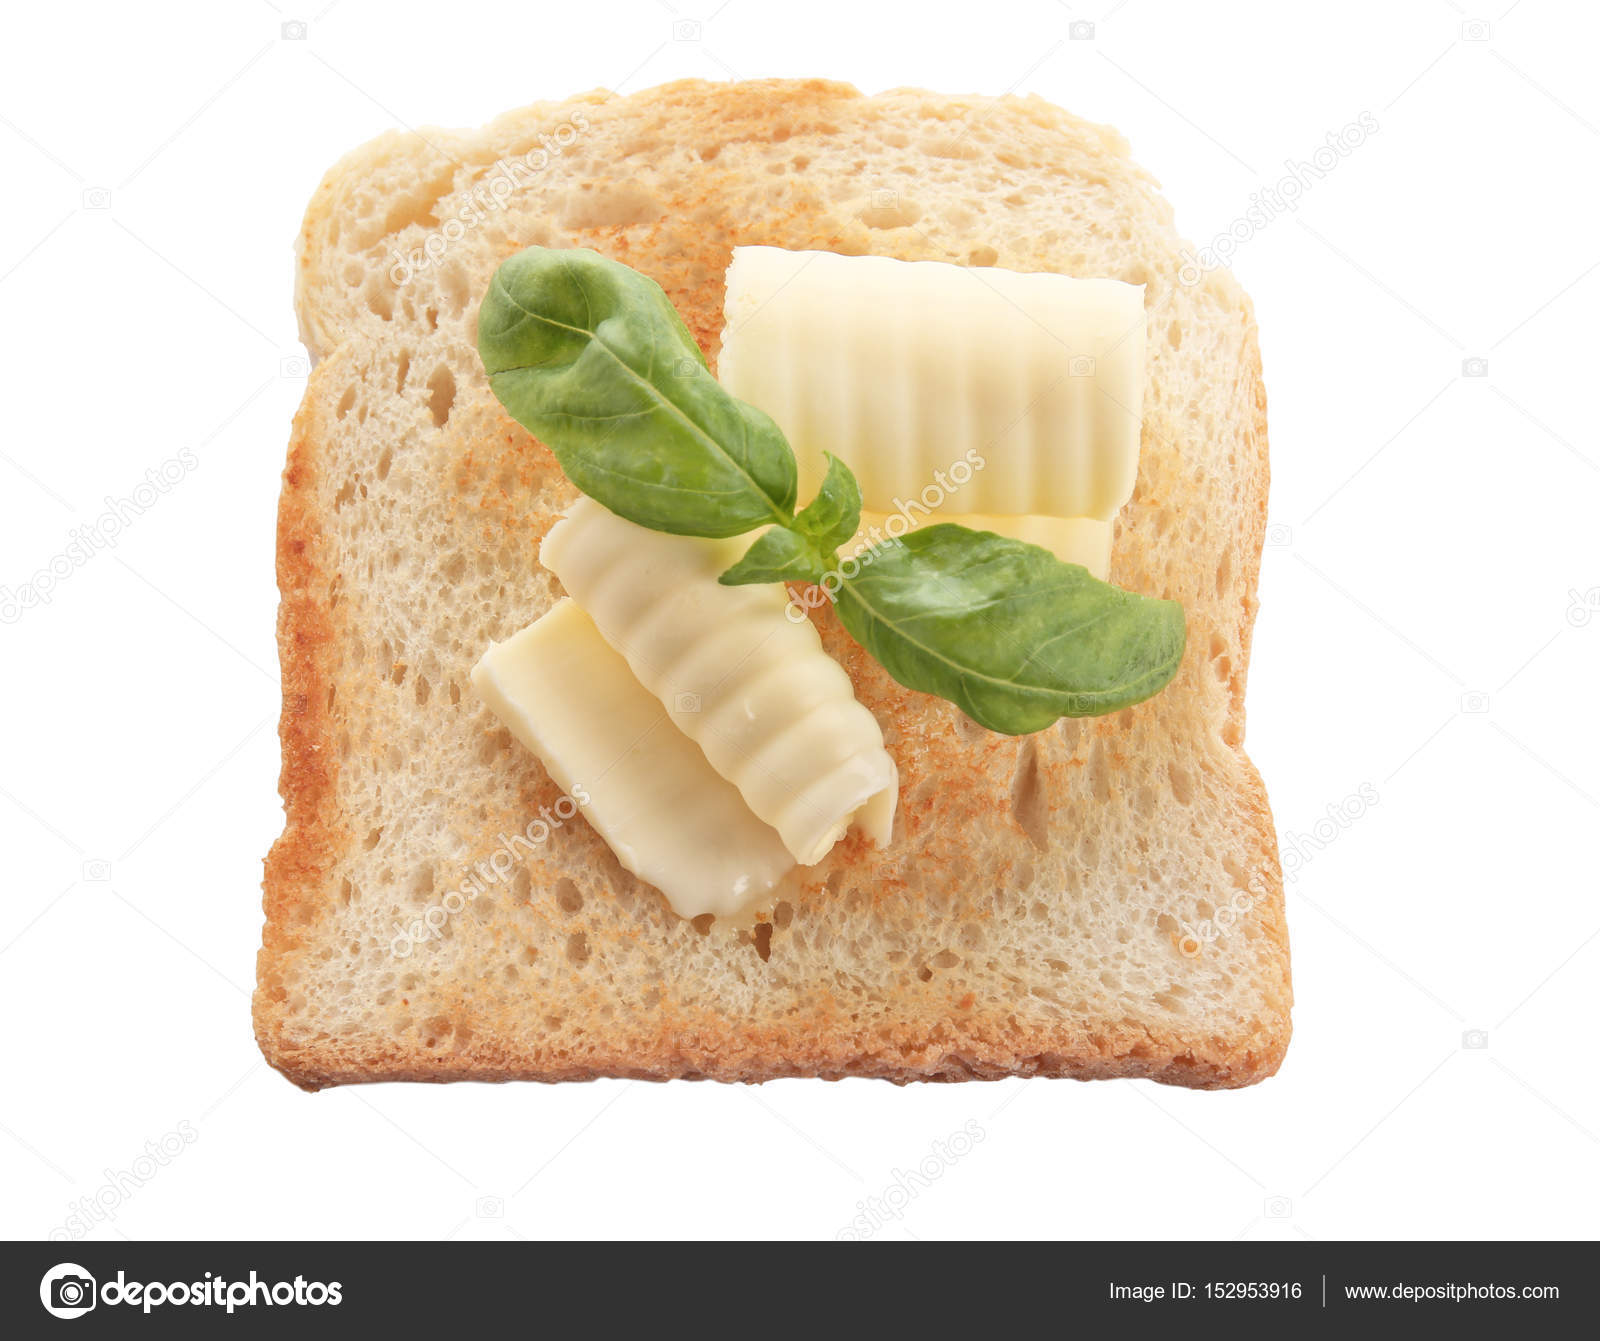slice of bread: (333, 158, 1236, 1074)
